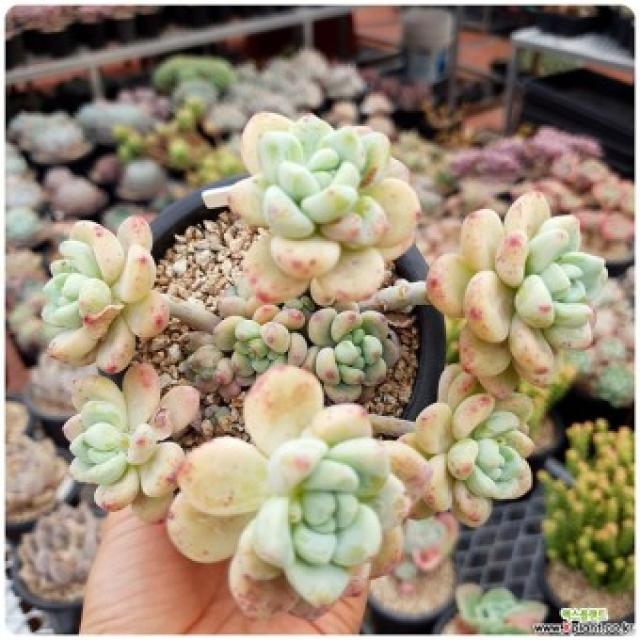LumiRose: (166, 365, 430, 618), (426, 191, 606, 398), (228, 112, 419, 306), (401, 364, 534, 527), (64, 362, 199, 522), (42, 215, 169, 373), (308, 302, 400, 402)
